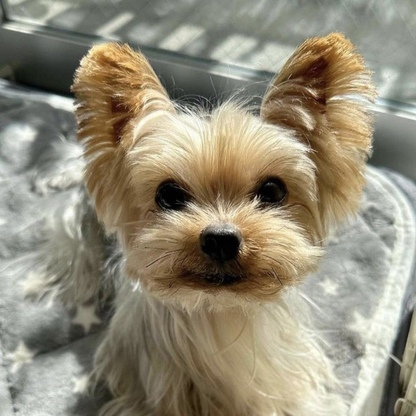yorkshire: (71, 33, 375, 416)
